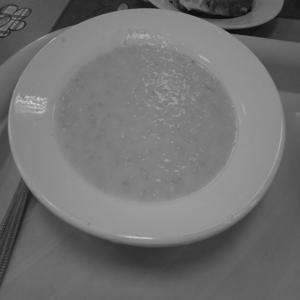porridge: (36, 29, 259, 222)
